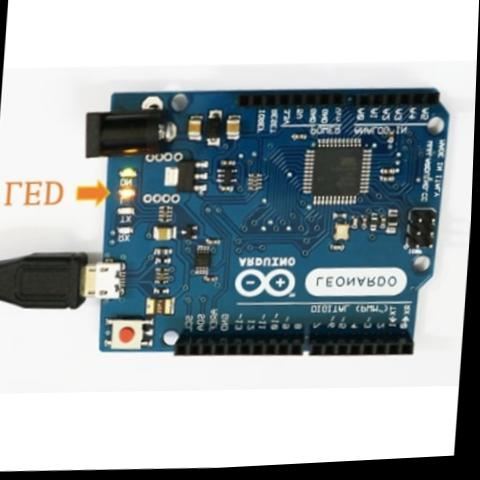Arduino-Leonardo: (71, 65, 460, 387)
